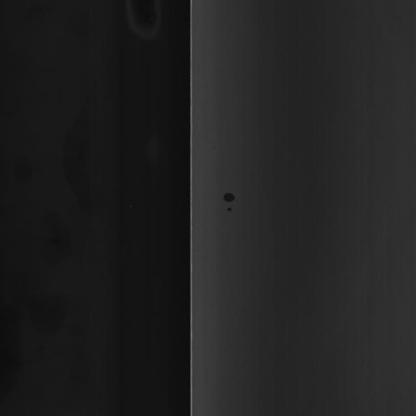oil_spot: (215, 172, 238, 225)
